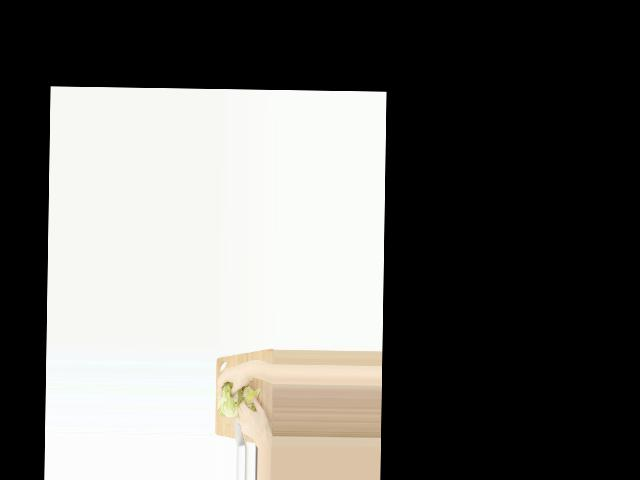lettuce: (218, 384, 241, 417)
